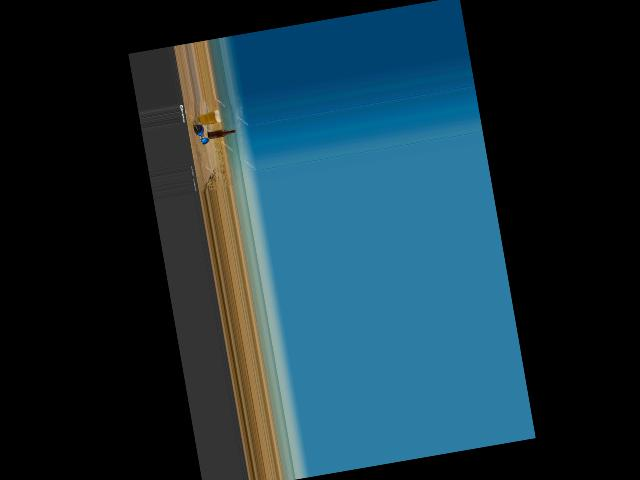beer: (207, 127, 236, 139)
